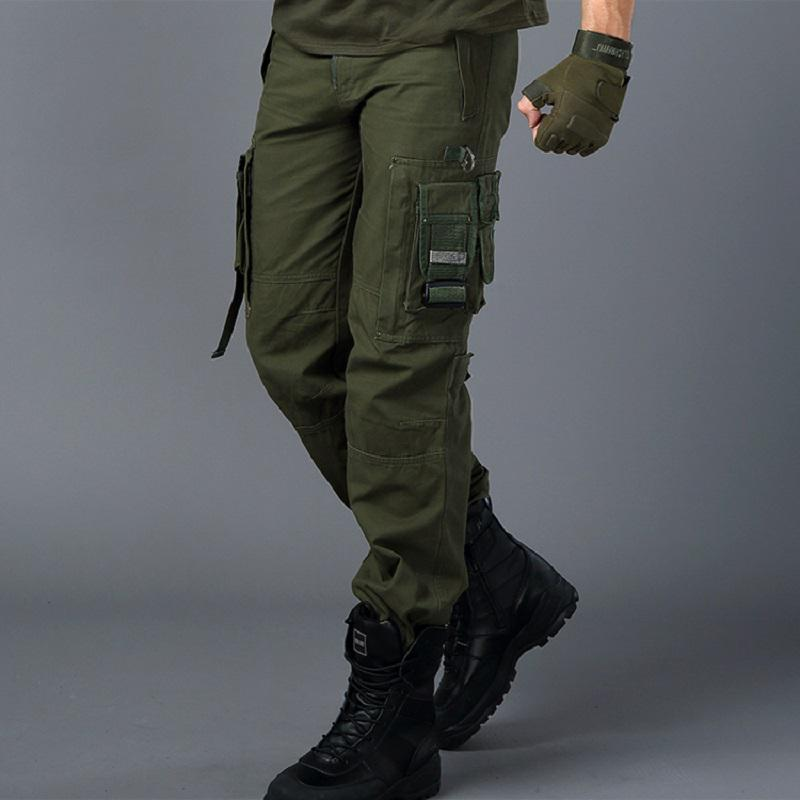pants: (222, 28, 512, 598)
